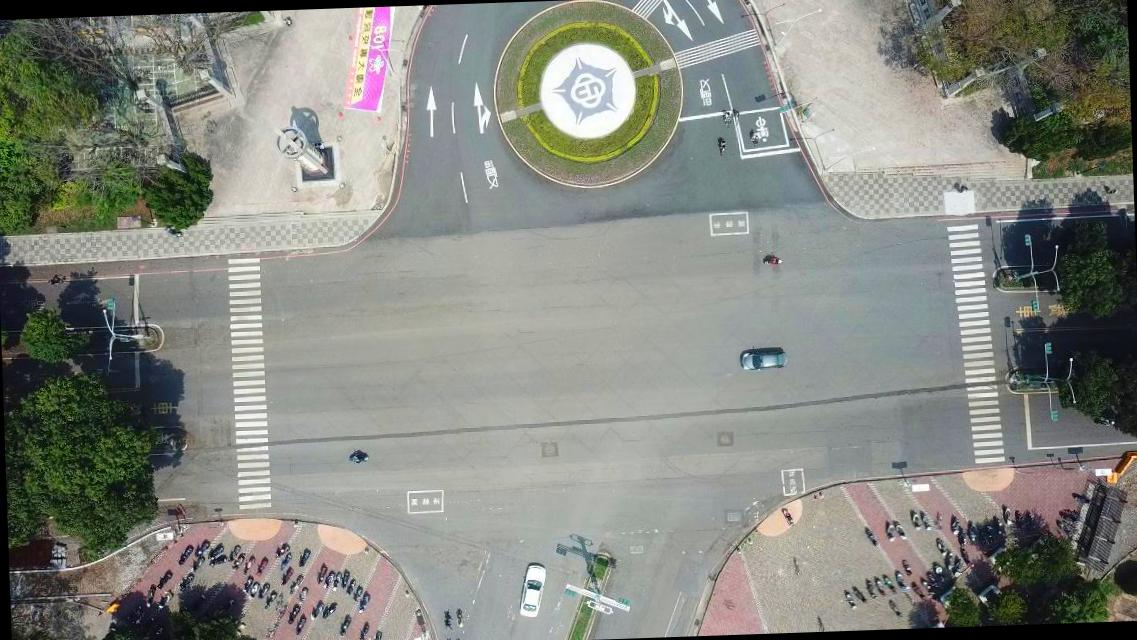vehicle: (516, 562, 548, 619), (737, 346, 789, 372)
